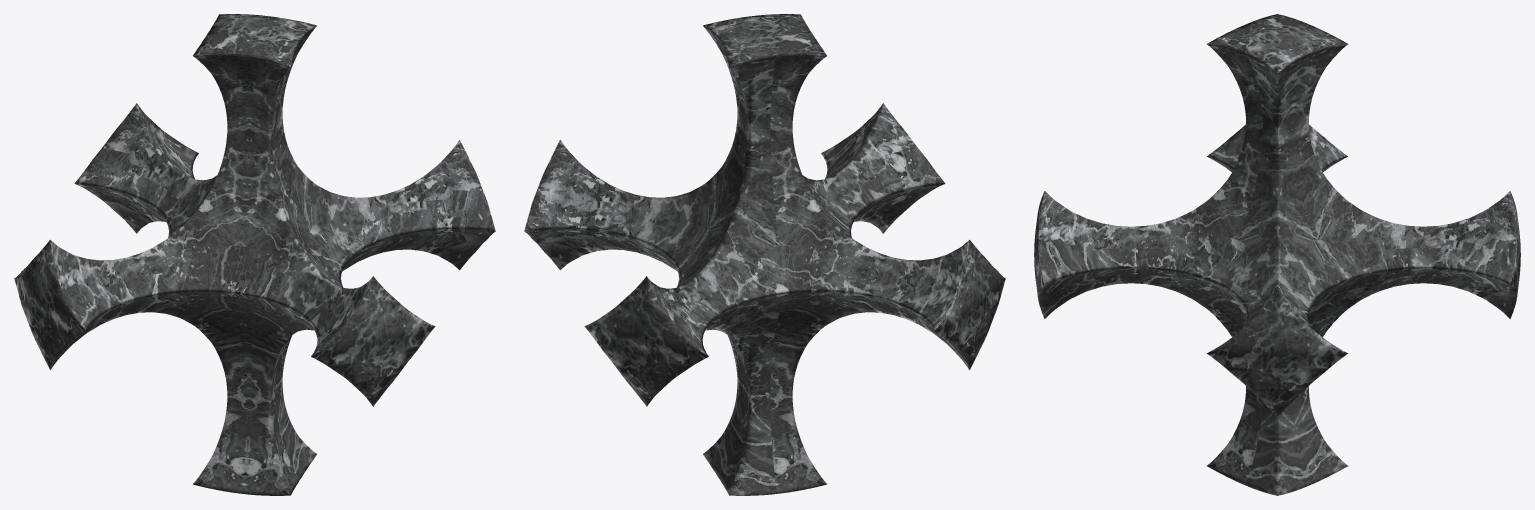
Rendered from knight.glb.
The picture shows the model from 3 angles, left to right: view 1: azimuth 30°, elevation 25°; view 2: azimuth 150°, elevation 25°; view 3: azimuth 270°, elevation 25°; orthographic projection.
Visible parts, largest first — view 1: knight; view 2: knight; view 3: knight.
Boxes of the visible parts, x1=… form: knight: x1=14, y1=14, x2=495, y2=495; knight: x1=524, y1=14, x2=1005, y2=495; knight: x1=1034, y1=14, x2=1520, y2=495.
Size of the model in its own units: 4.14 by 4.14 by 4.14.
Materials: 1 (1 with a texture image).
